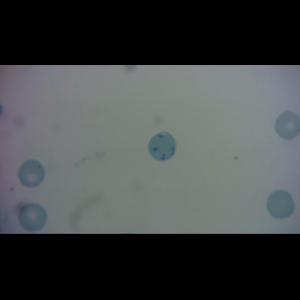aggregate reticulocyte: (146, 130, 177, 162)
erythrocyte: (265, 188, 296, 220), (17, 203, 49, 233)
punctate reticulocyte: (17, 158, 47, 189), (274, 109, 300, 141)
